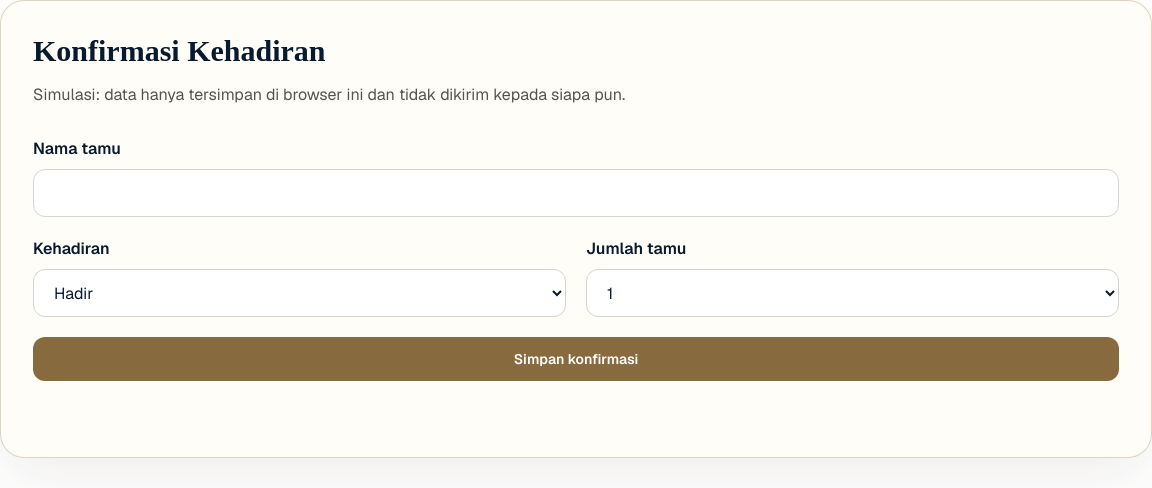
wedding RSVP › validates and saves an attendance response
Step 1. Click the button "Simpan konfirmasi" → (576,359), box x1=33 y1=337 x2=1119 y2=381
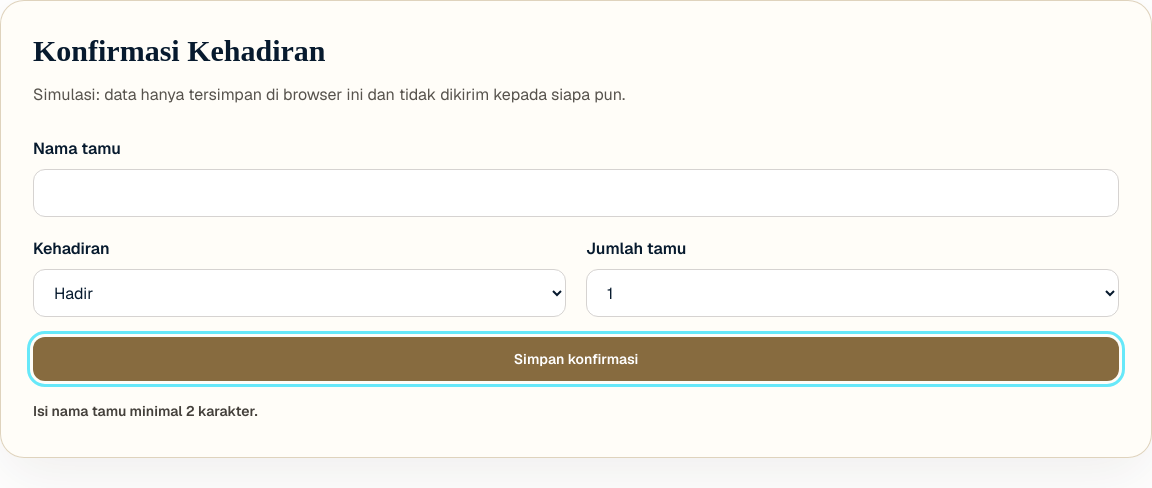
Result: the message shows "Isi nama" at x1=33 y1=402 x2=258 y2=420
Step 2. Type "Dina" into the field labelled "Nama tamu" → (576,193), box x1=33 y1=169 x2=1119 y2=217
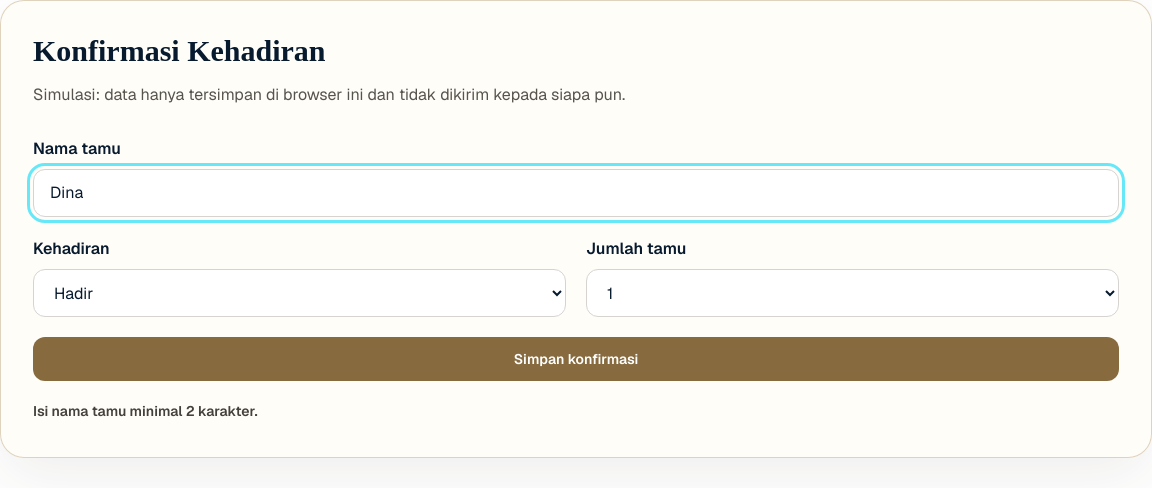
Step 3. Select "Hadir" in the dropdown labelled "Kehadiran" → (300,293), box x1=33 y1=269 x2=566 y2=317
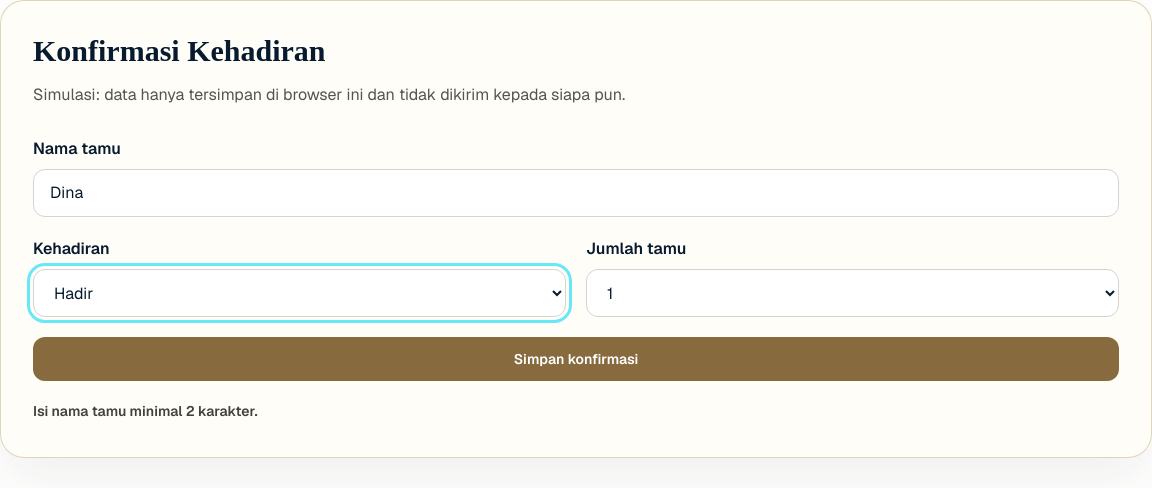
Step 4. Select "2" in the dropdown labelled "Jumlah tamu" → (852,293), box x1=586 y1=269 x2=1119 y2=317
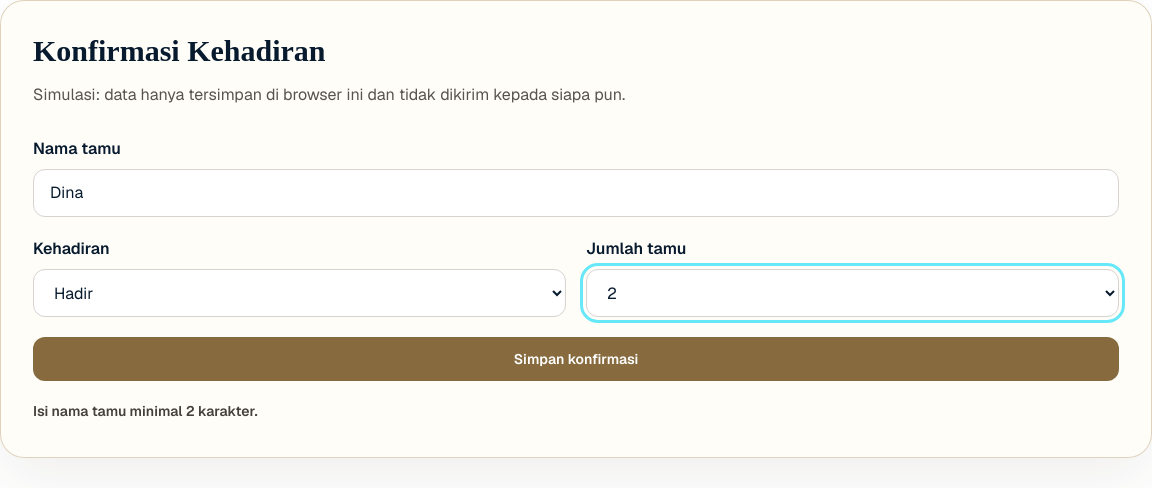
Step 5. Click the button "Simpan konfirmasi" → (576,359), box x1=33 y1=337 x2=1119 y2=381
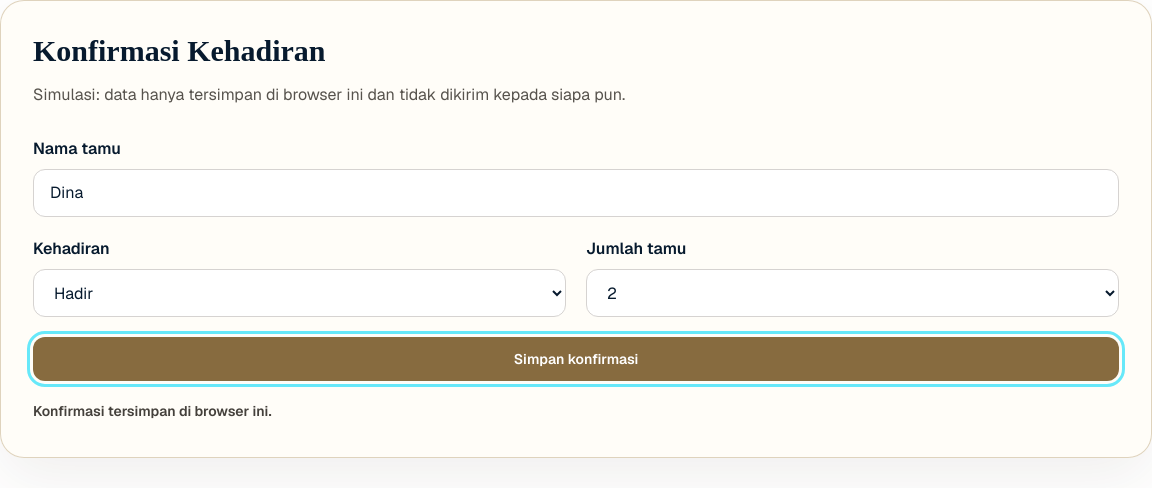
Result: the message shows "tersimpan di browser" at x1=33 y1=402 x2=272 y2=420
